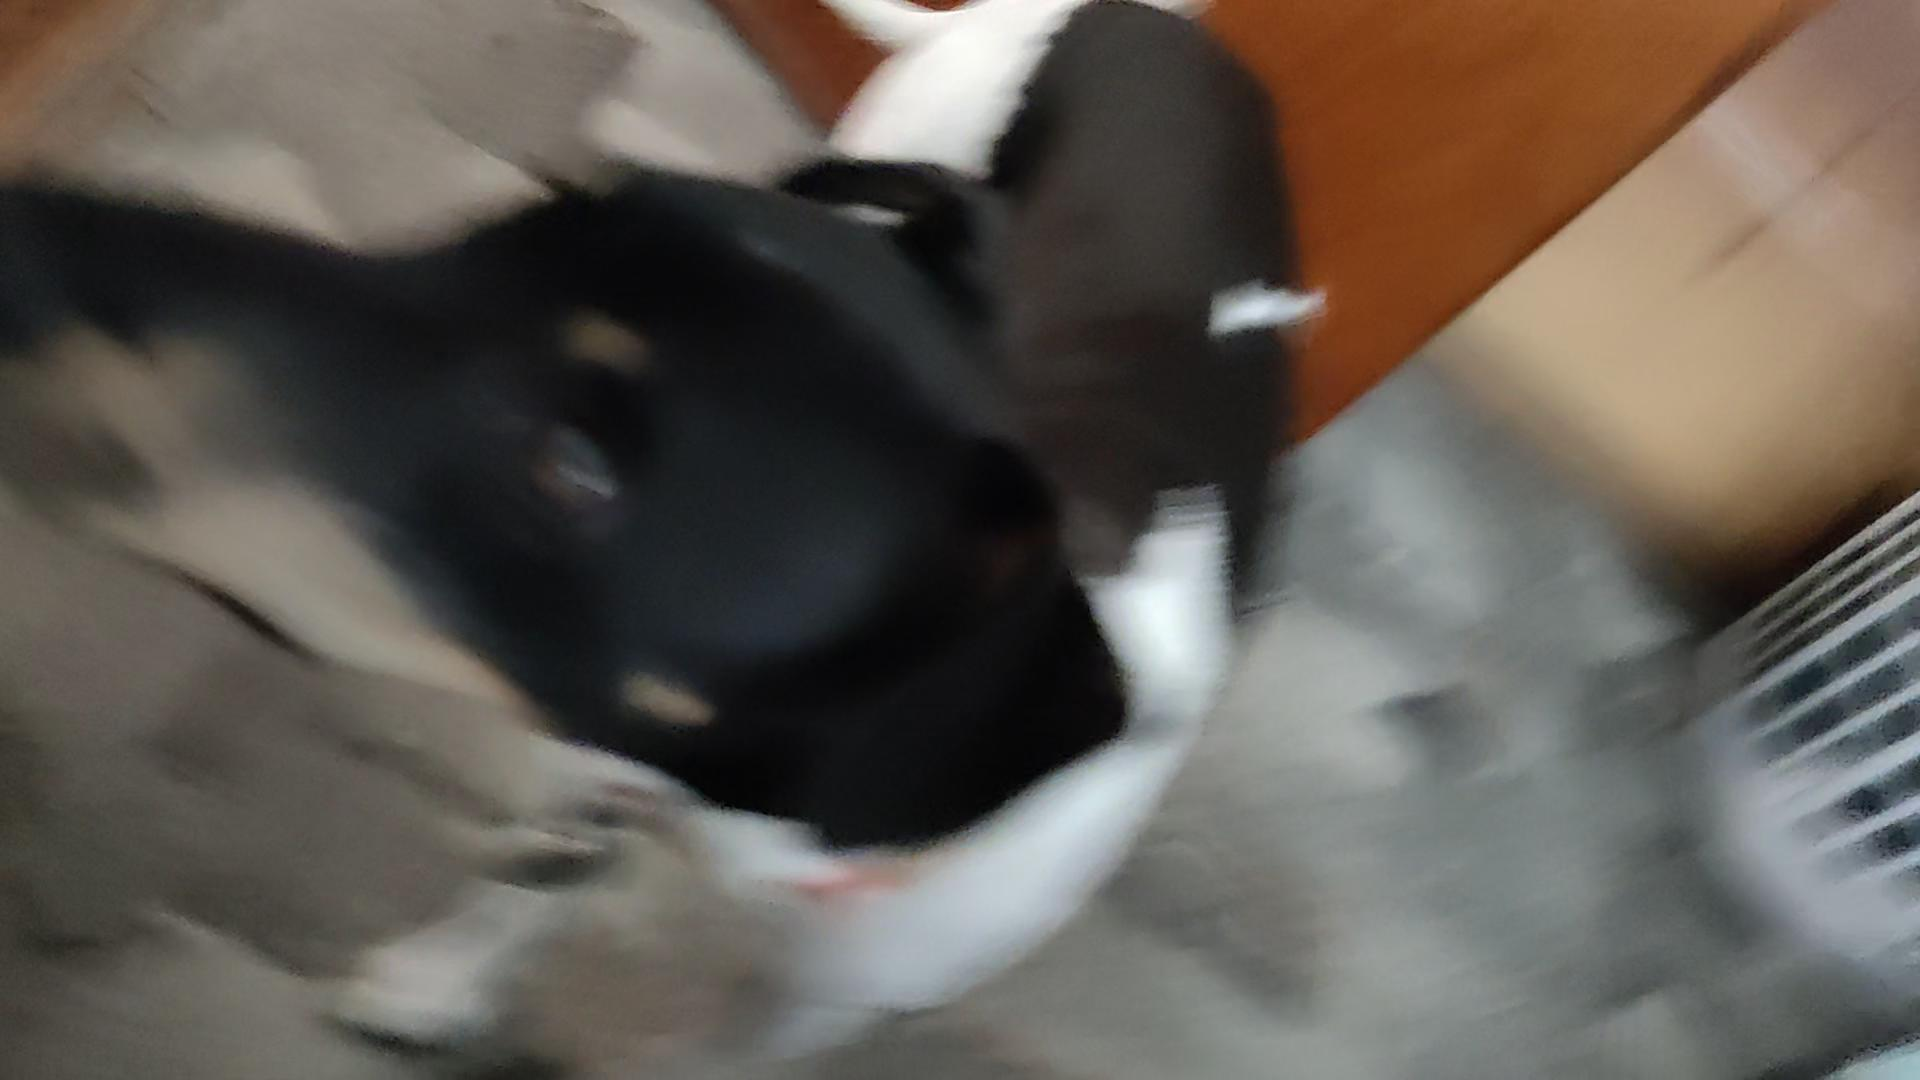Dog: (0, 0, 1346, 1079)
